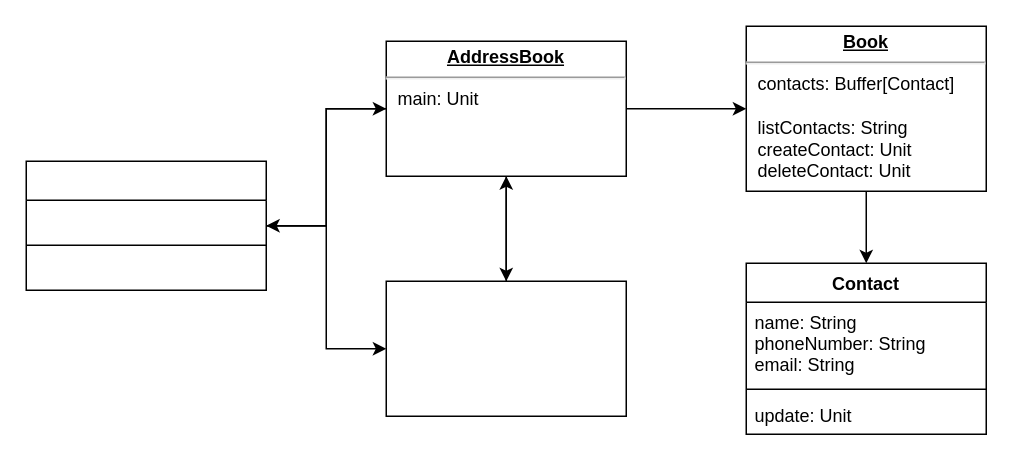
Some shapes in this 1013 by 465 pixel diagram are drawn without their labels. The shapes that lost their labels are listed below. From the top down, each one's centre as x and y in pixels, then its label:
At [145,225]: "UI".
At [505,348]: "InputField main: Unit".
